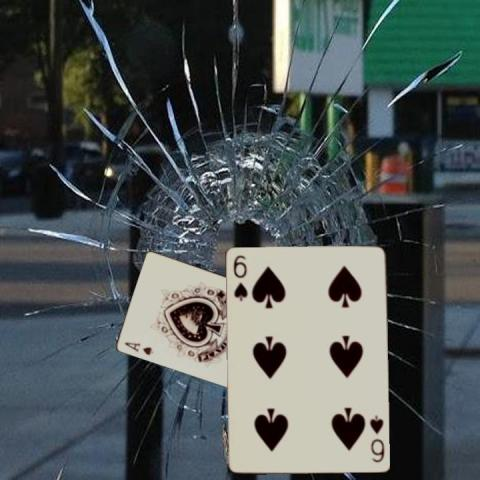6s: (367, 413, 386, 464), (231, 252, 249, 302)
As: (121, 339, 155, 357)
